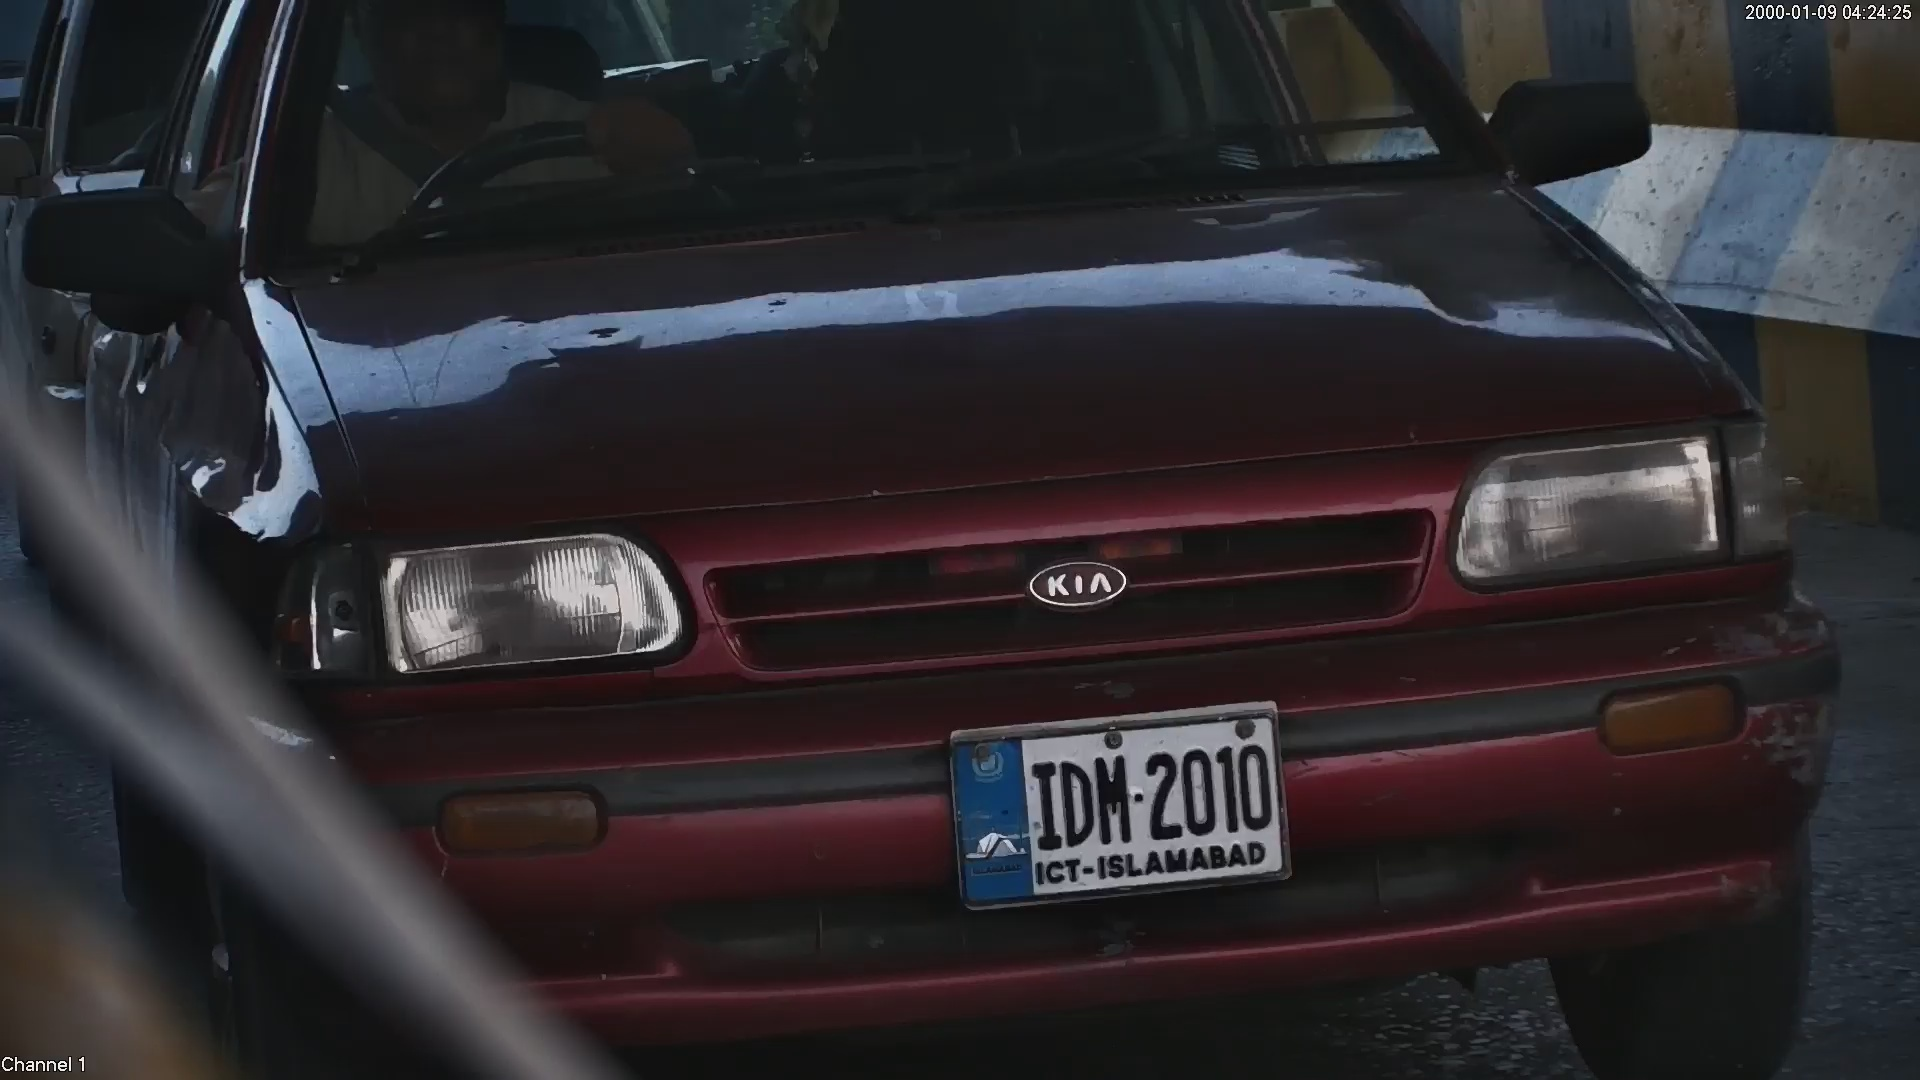Number_Plate: (928, 696, 1304, 901)
